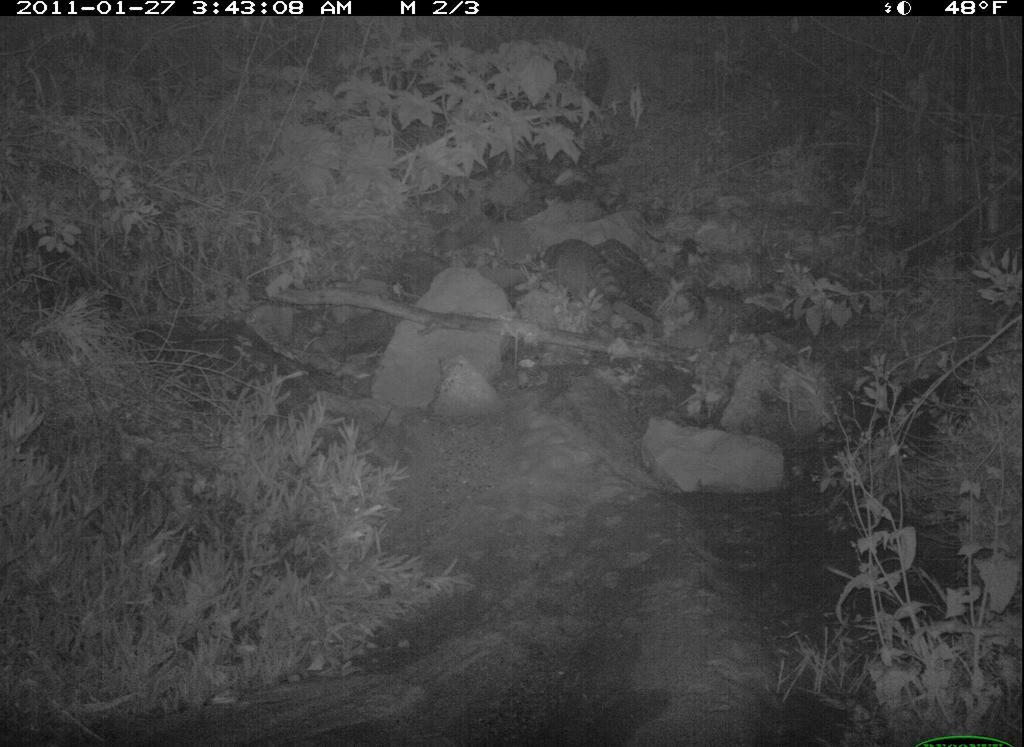raccoon: (520, 233, 652, 321)
